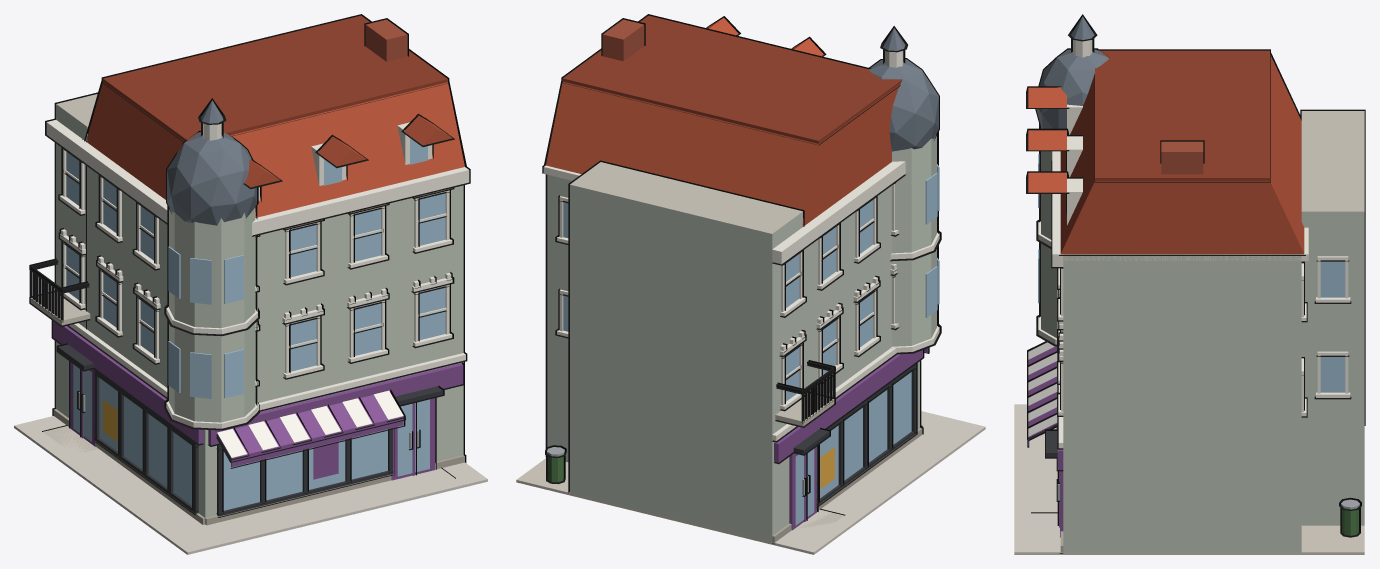
Rendered from Blok_kose_3k_4.fbx.
The picture shows the model from 3 angles, left to right: view 1: azimuth 30°, elevation 25°; view 2: azimuth 150°, elevation 25°; view 3: azimuth 270°, elevation 25°; orthographic projection.
Visible parts, largest first — view 1: Blok_kose_3k_4; view 2: Blok_kose_3k_4; view 3: Blok_kose_3k_4.
Part boxes in pixels (bbox=[...]): Blok_kose_3k_4: bbox=[14, 14, 487, 554]; Blok_kose_3k_4: bbox=[516, 14, 985, 554]; Blok_kose_3k_4: bbox=[1014, 14, 1365, 554].
Bounding box in the file's own units: 10.05 × 13.36 × 10.03.
